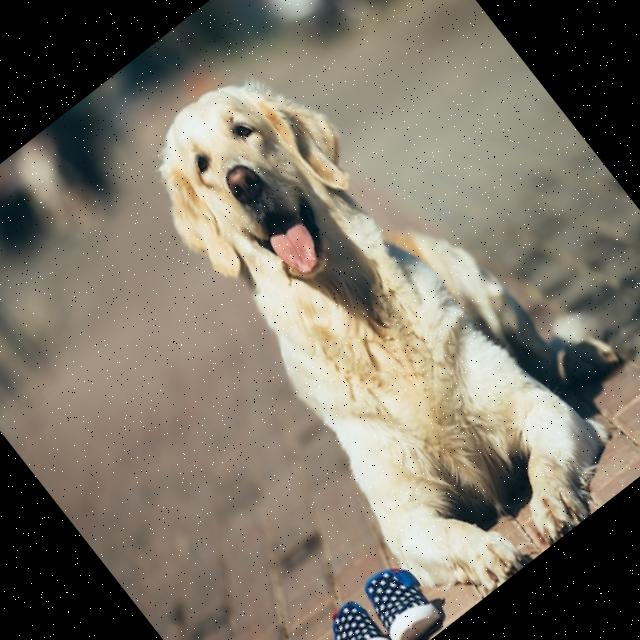Dog: (92, 0, 640, 627)
